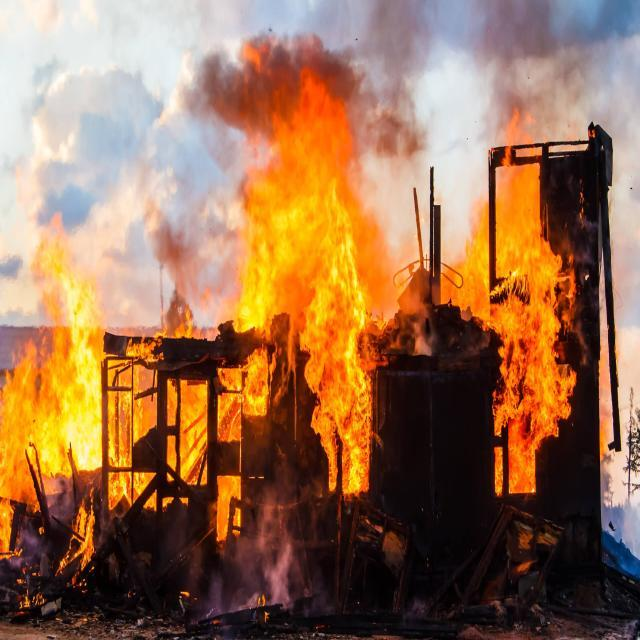Fire: (207, 28, 384, 500), (462, 123, 587, 488), (3, 218, 104, 547), (119, 326, 208, 509)
